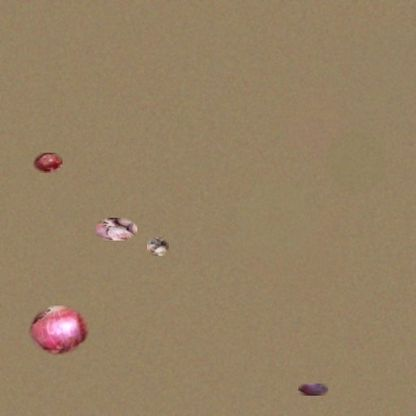damaged: (298, 383, 328, 396)
healthy: (28, 305, 89, 355), (33, 153, 63, 173)
rotten: (147, 237, 169, 256)
sprouted: (93, 218, 137, 240)
